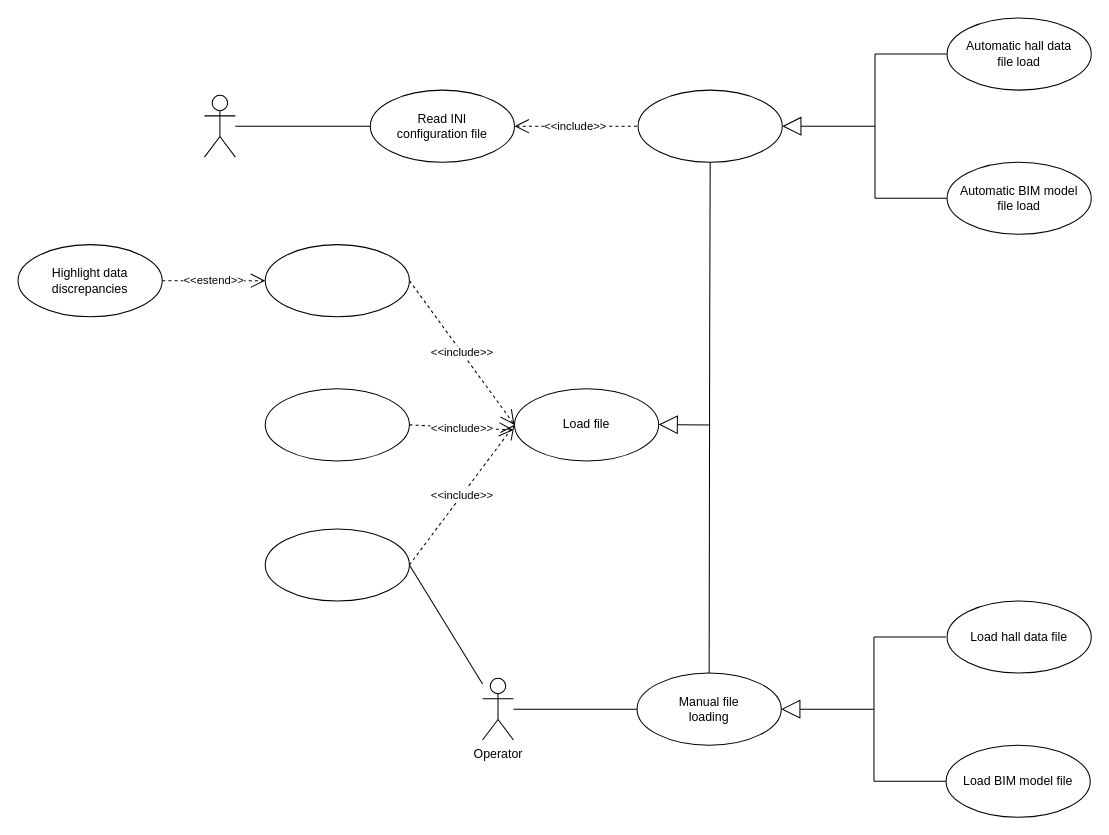
This 1109x835 diagram has some shape labels left out. The centre of each missing label's shape, as x and y in pixels:
"Automatic file loading" goes at point (709, 125).
"System" goes at point (219, 125).
"Update BIM model" goes at point (336, 564).
"View acoustic data" goes at point (336, 424).
"View loaded data" goes at point (336, 280).
